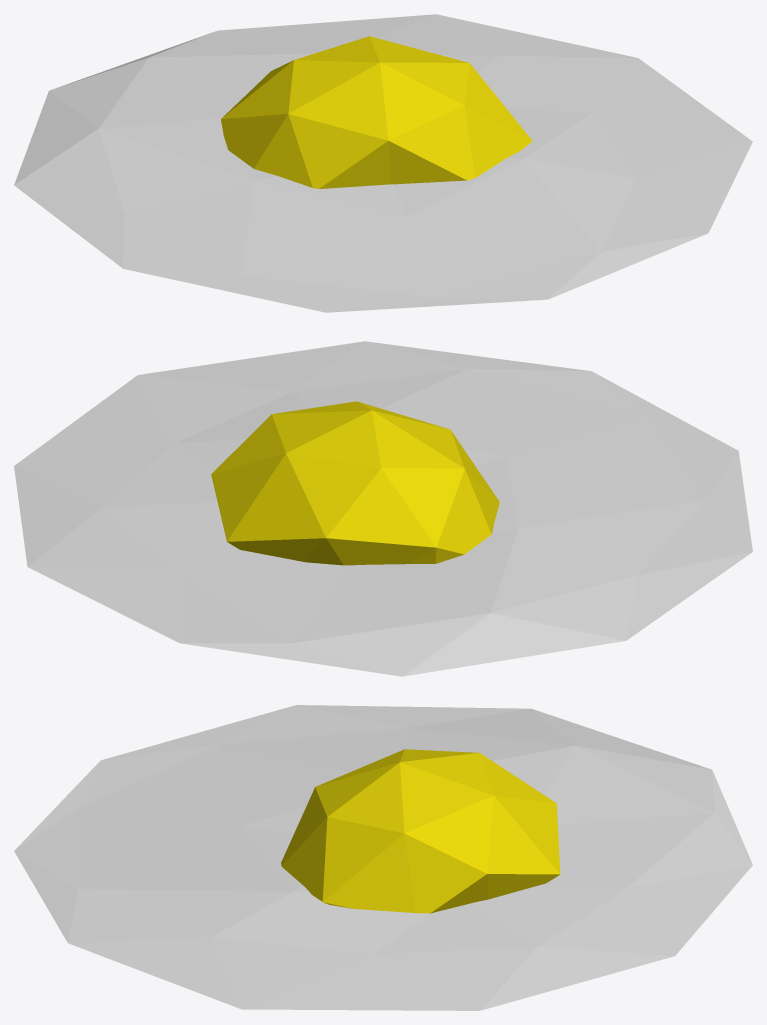
The model's file is egg.fbx.
The picture shows the model from 3 angles, top to bottom: view 1: azimuth 30°, elevation 25°; view 2: azimuth 150°, elevation 25°; view 3: azimuth 270°, elevation 25°; orthographic projection. The views are drawn at different scales.
Visible parts, largest first — view 1: whiite; view 2: whiite; view 3: whiite.
Boxes of the visible parts, x1,y1,x2,y2 form: whiite: (14, 14, 752, 312); whiite: (14, 341, 752, 676); whiite: (14, 705, 752, 1010).
Bounding box in the file's own units: 176 × 46.14 × 181.
